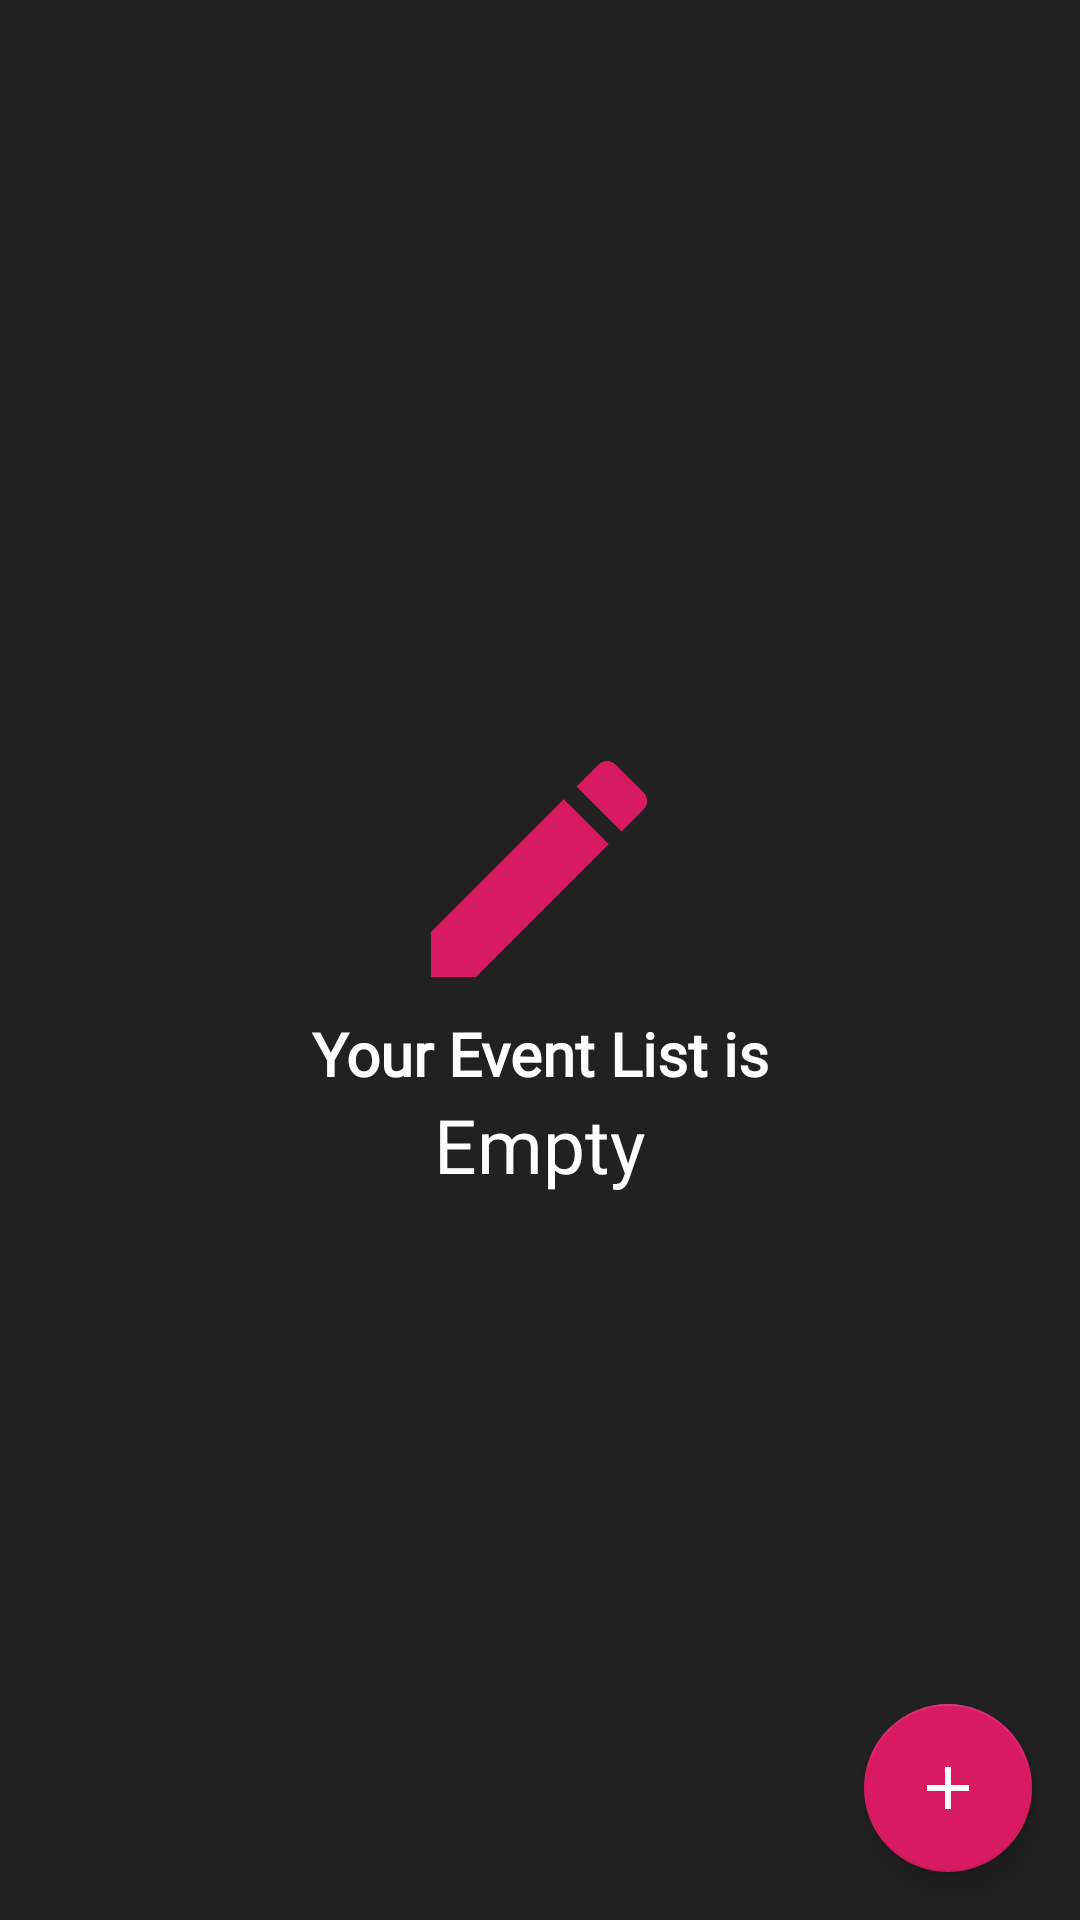

Icon bounding boxes for this 1080x1920 phone screenshot, format [x1,y1,x2,y2]:
create: [431,761,647,977]
